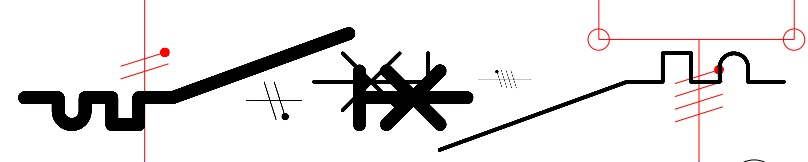interruptor_termomagnetico: (301, 41, 795, 162), (13, 22, 478, 136)
